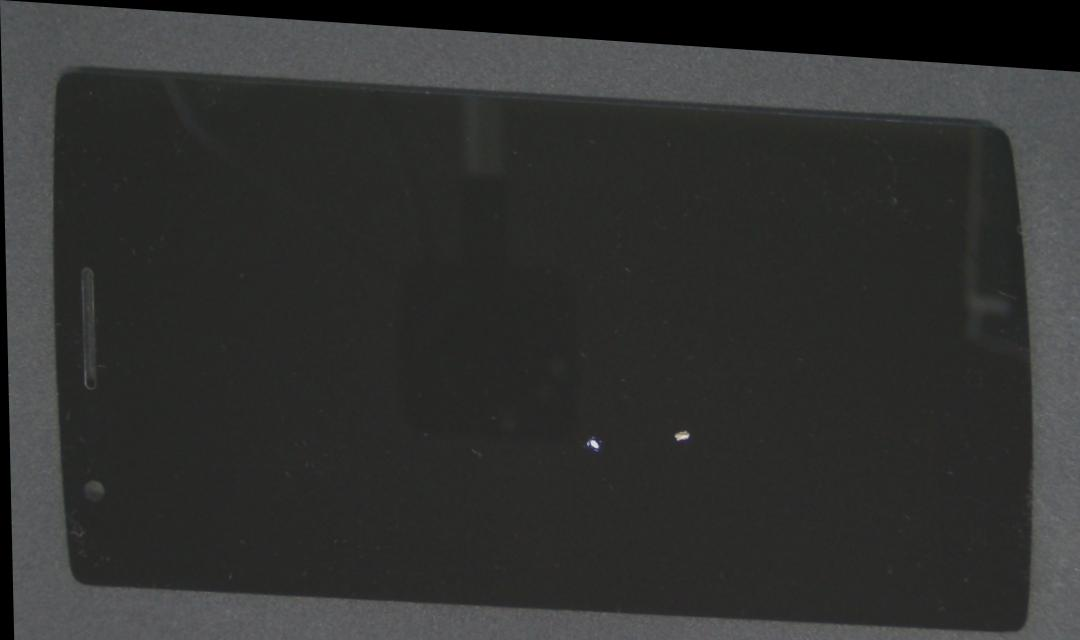Scratches: (666, 418, 698, 463), (582, 427, 614, 453)
